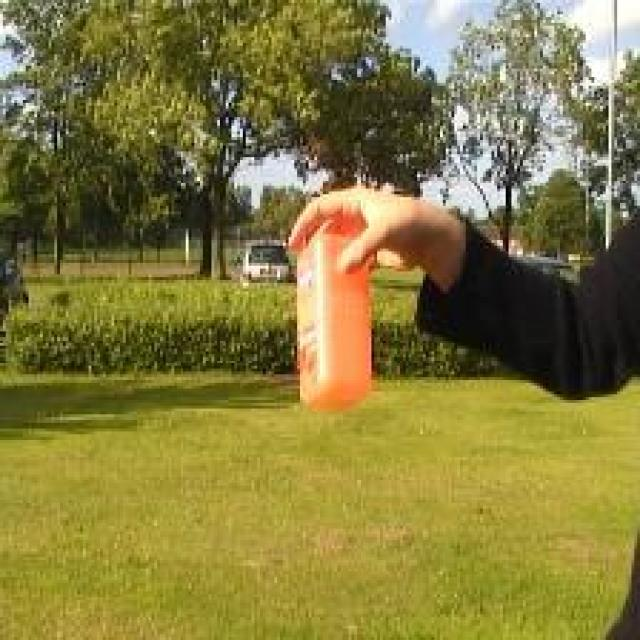other: (272, 225, 404, 409)
